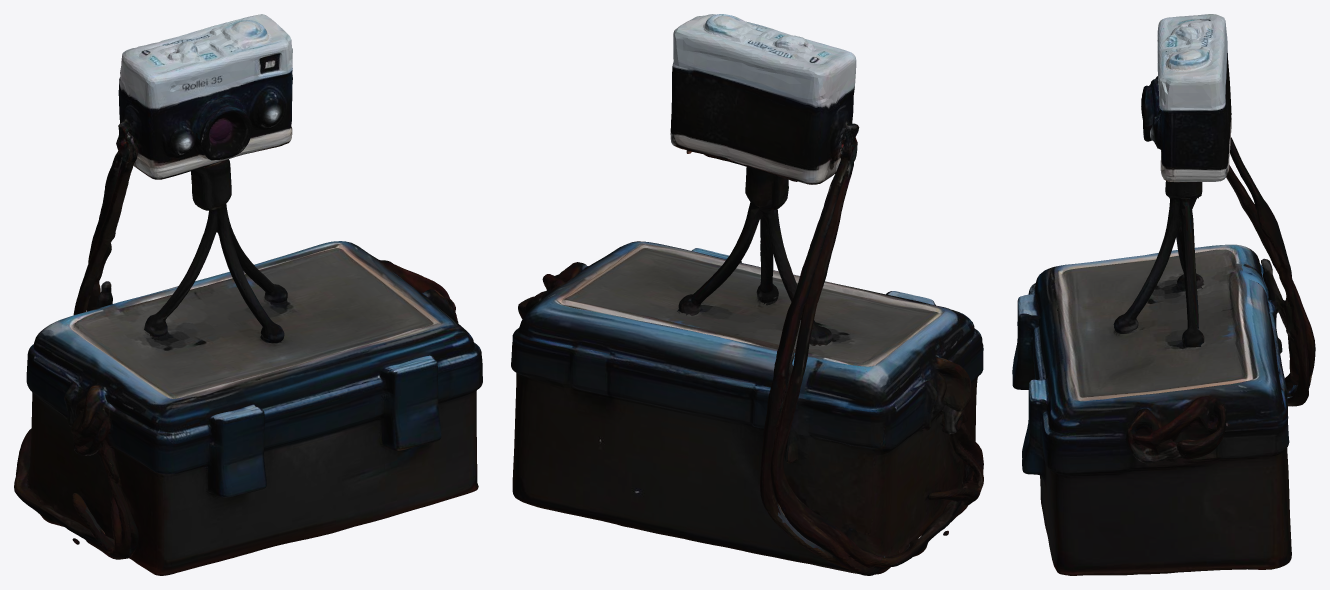
The picture shows the model from 3 angles, left to right: view 1: azimuth 30°, elevation 25°; view 2: azimuth 150°, elevation 25°; view 3: azimuth 270°, elevation 25°; orthographic projection. The views are drawn at different scales.
Parts seen in each view (by area): view 1: textured_mesh.obj; view 2: textured_mesh.obj; view 3: textured_mesh.obj.
Boxes of the visible parts, x1,y1,x2,y2 form: textured_mesh.obj: (14,14,482,575); textured_mesh.obj: (511,14,983,575); textured_mesh.obj: (1012,14,1315,575).
Size of the model in its own units: 1.77 by 1.98 by 1.22.
1 material, 1 textured.
